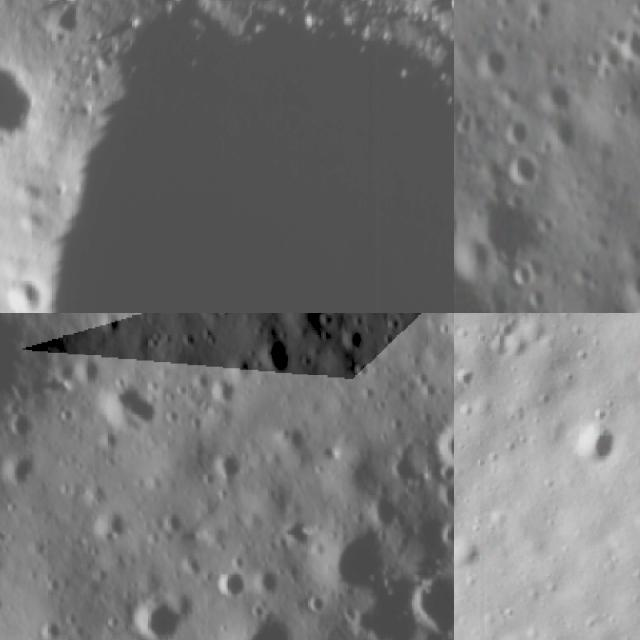crater: (302, 508, 408, 612), (339, 574, 435, 640), (203, 593, 326, 640), (0, 313, 56, 413), (93, 374, 167, 449), (0, 41, 52, 140), (400, 550, 454, 640), (118, 583, 198, 640), (243, 329, 306, 397), (83, 500, 140, 557), (64, 344, 120, 400), (454, 278, 541, 313), (327, 313, 378, 370), (203, 442, 255, 495), (422, 398, 454, 484), (0, 446, 47, 502), (210, 560, 257, 612), (571, 422, 619, 469), (533, 73, 577, 124), (500, 154, 550, 198), (605, 16, 640, 67), (427, 313, 454, 365), (498, 109, 534, 145), (432, 512, 454, 561), (454, 189, 466, 246)
